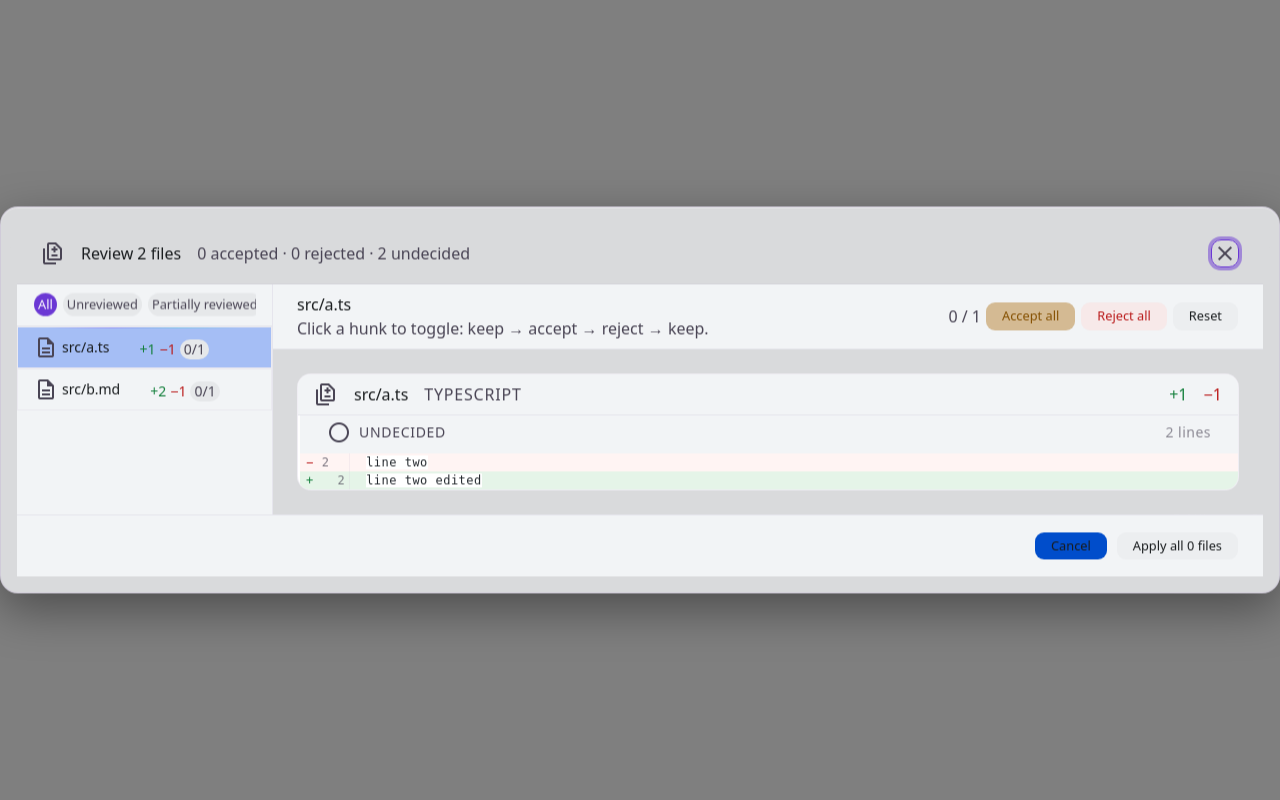
Test: DiffDialogMulti › switches current file when sidebar row is clicked
The width and height of the screenshot is (1280, 800).
Expected: the text "line two edited" is shown, [366,473,482,487]
Expected: the text "BAR" is not shown
Click the text "src/b.md": (91, 390) [62,380,120,400]
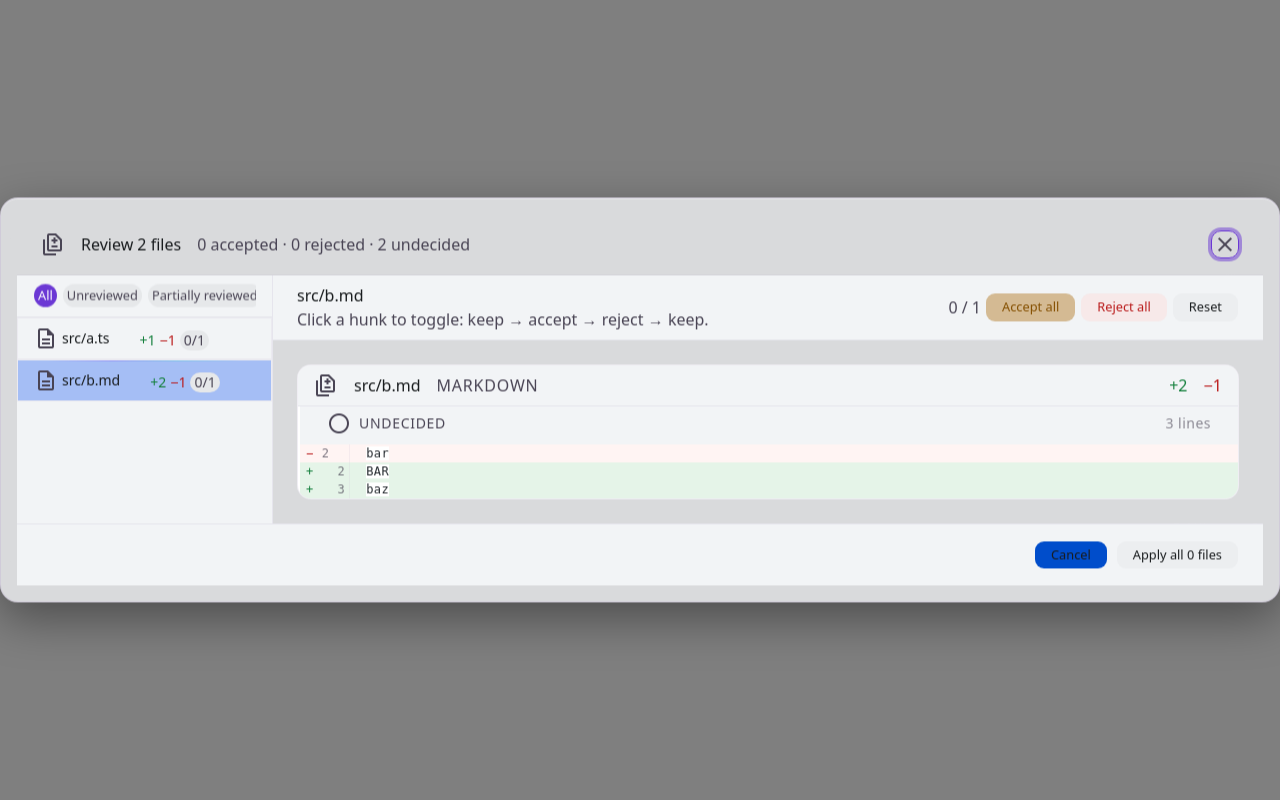
Expected: the text "BAR" is shown, [366,464,389,478]
